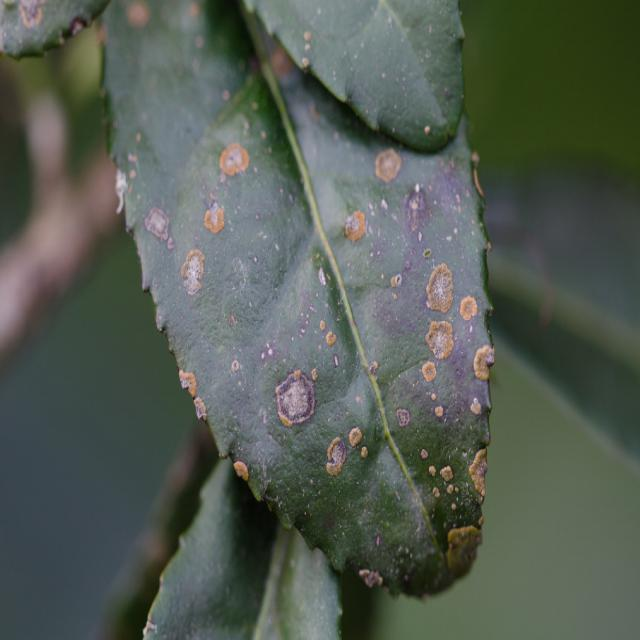Tea algae leaf spot: (102, 131, 509, 601)
